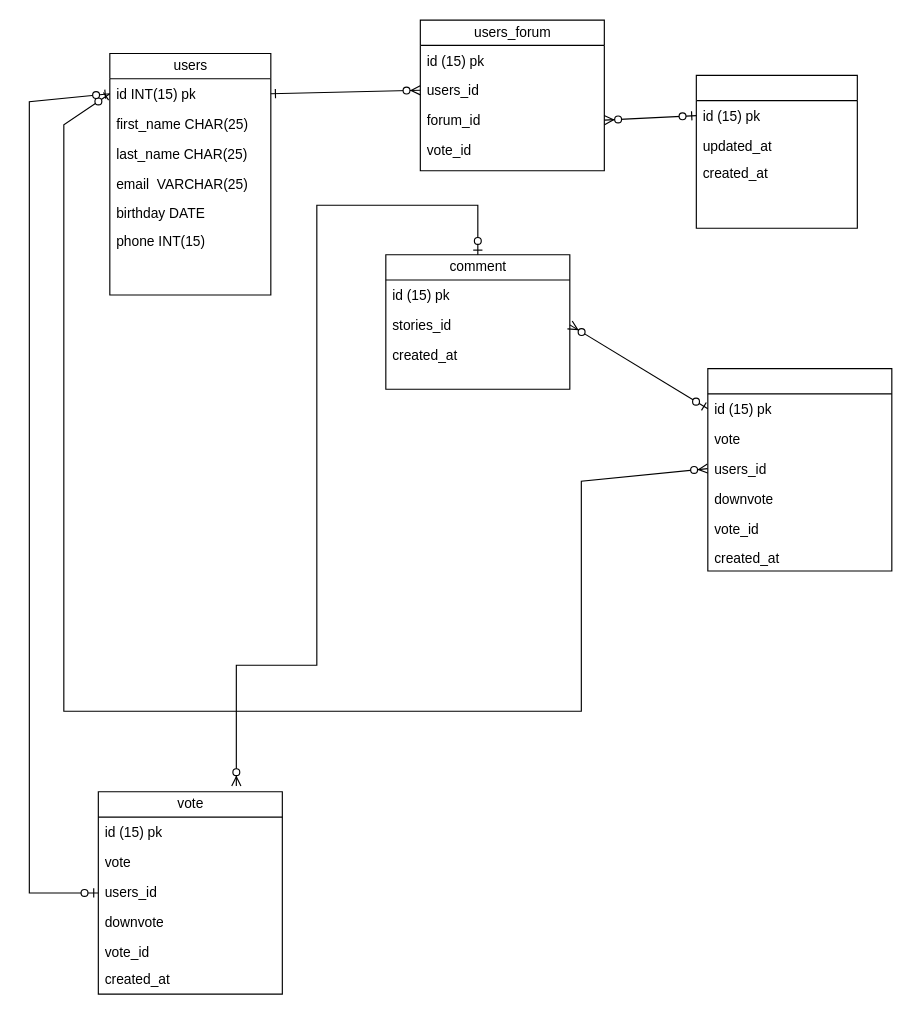
Image size: 922x1015. Some labels were removed from this diagram. Each missing label, with the box of its shape:
forum: (695, 74, 857, 228)
stories: (707, 367, 892, 571)
